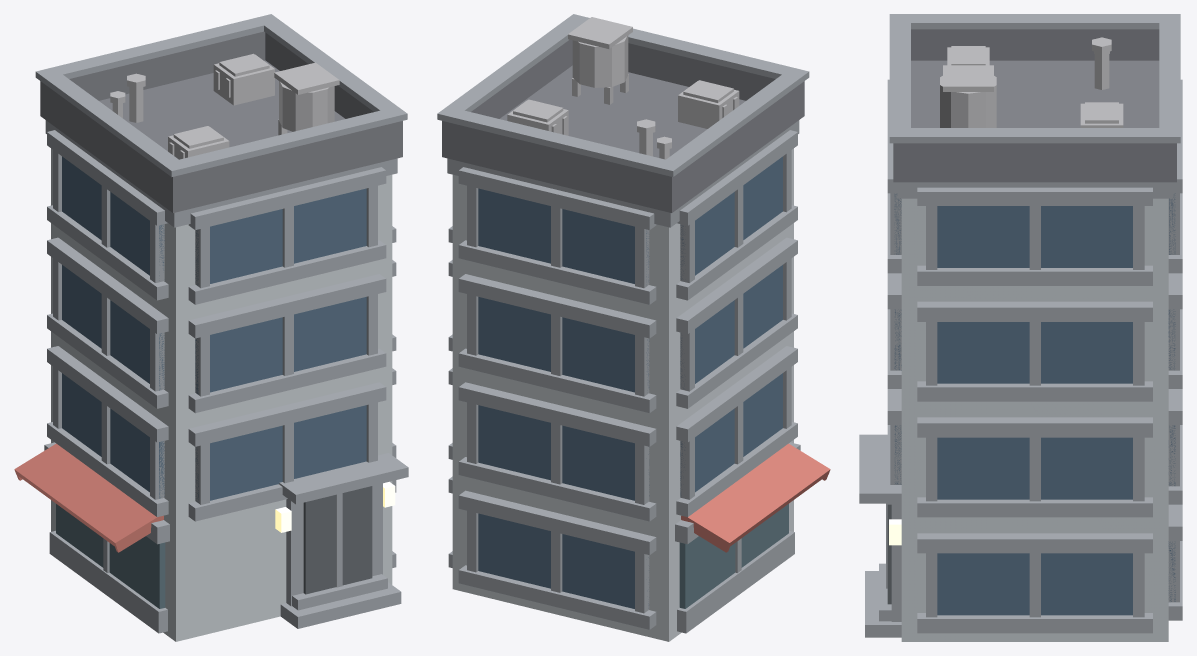
File: bld_0_1.glb
The picture shows the model from 3 angles, left to right: view 1: azimuth 30°, elevation 25°; view 2: azimuth 150°, elevation 25°; view 3: azimuth 270°, elevation 25°; orthographic projection. The views are drawn at different scales.
Visible parts, largest first — view 1: trim, win, w, rf, ac, awn, door, shop, porch; view 2: trim, win, w, rf, ac, awn, shop; view 3: trim, win, w, rf, ac.
Boxes of the visible parts, left/top/right/bottom form: trim: left=35, top=14, right=408, bottom=633; win: left=62, top=156, right=366, bottom=502; w: left=51, top=148, right=392, bottom=641; rf: left=40, top=31, right=402, bottom=212; ac: left=110, top=53, right=339, bottom=159; awn: left=14, top=443, right=163, bottom=552; door: left=303, top=486, right=372, bottom=594; shop: left=56, top=504, right=165, bottom=608; porch: left=275, top=481, right=395, bottom=532; trim: left=437, top=14, right=809, bottom=633; win: left=478, top=156, right=782, bottom=608; w: left=452, top=148, right=793, bottom=641; rf: left=442, top=39, right=804, bottom=212; ac: left=507, top=17, right=739, bottom=159; awn: left=681, top=443, right=830, bottom=552; shop: left=679, top=504, right=788, bottom=608; trim: left=859, top=14, right=1182, bottom=637; win: left=894, top=193, right=1175, bottom=615; w: left=901, top=198, right=1168, bottom=641; rf: left=893, top=29, right=1176, bottom=182; ac: left=940, top=37, right=1123, bottom=127.
Bounding box in the file's own units: 2.4 × 4.18 × 2.28.
